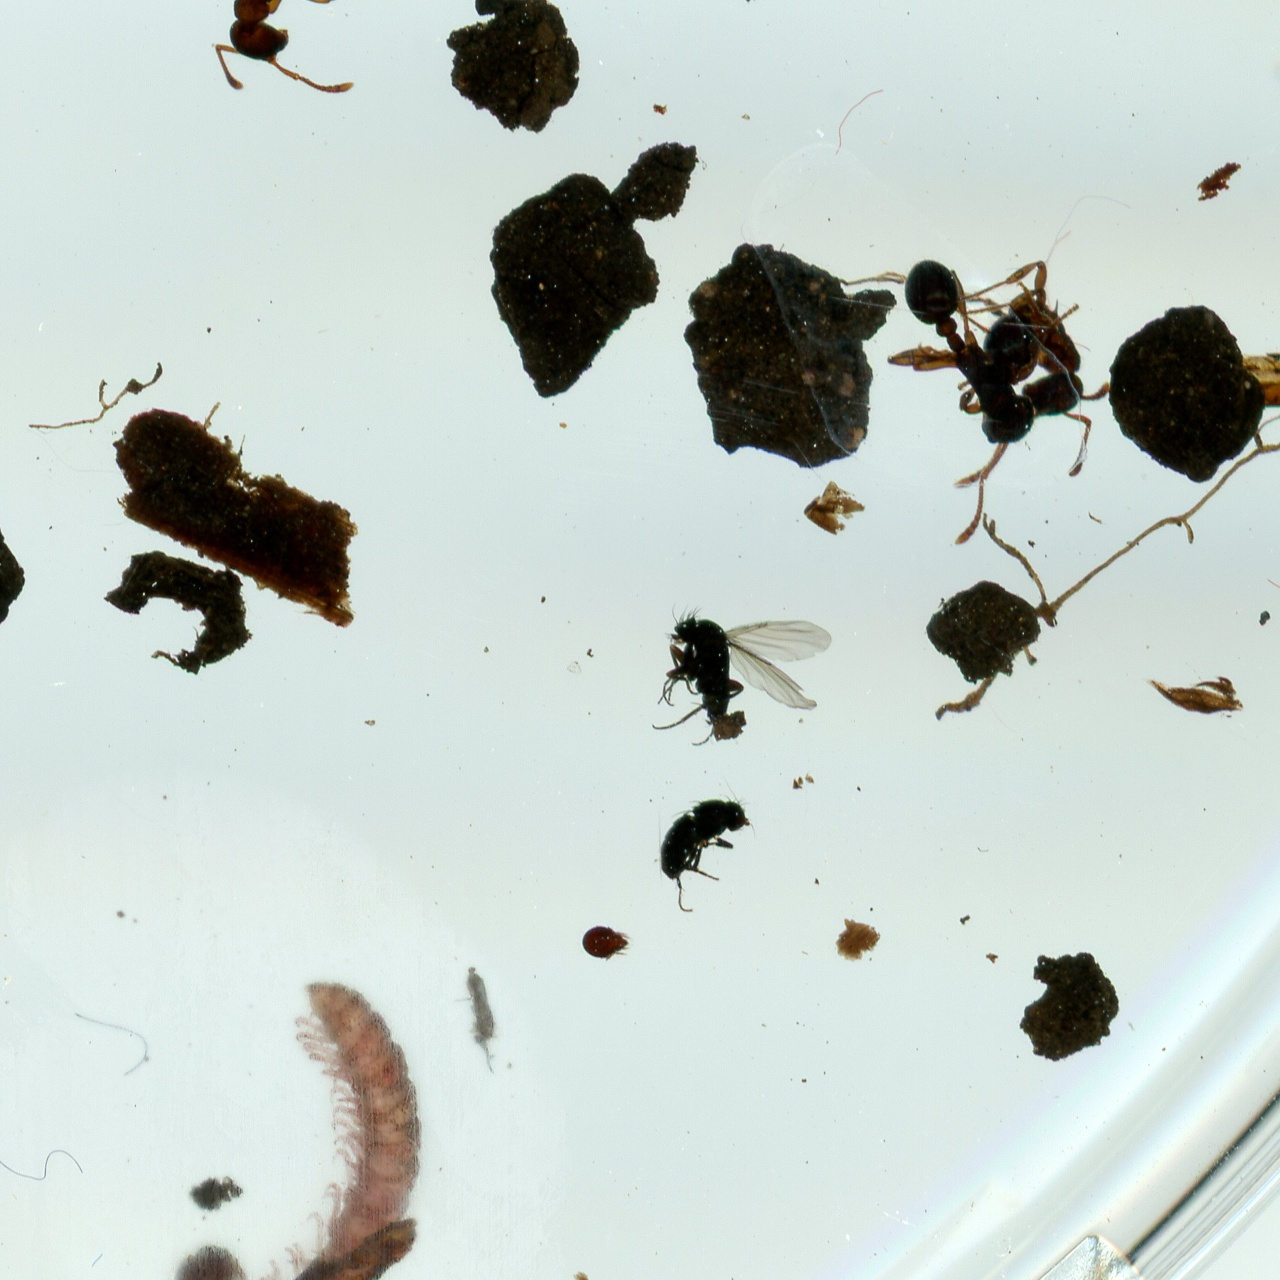arthropod: (832, 171, 1160, 537), (823, 236, 1091, 556), (231, 973, 436, 1280), (648, 597, 837, 757), (205, 0, 366, 104), (649, 777, 762, 917), (444, 948, 502, 1076), (578, 922, 633, 965)
